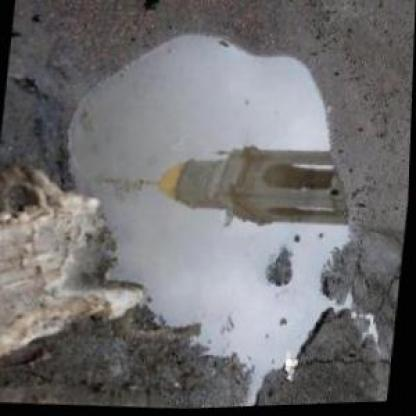pothole: (42, 21, 381, 412)
